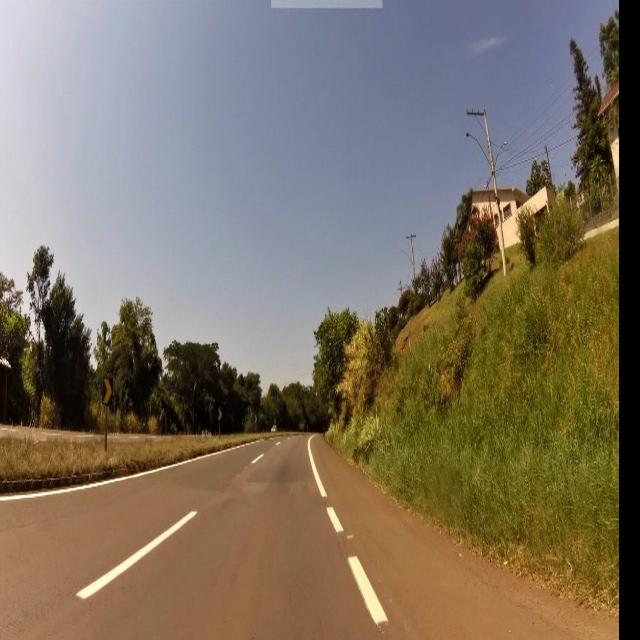Del: (102, 378, 113, 404)
